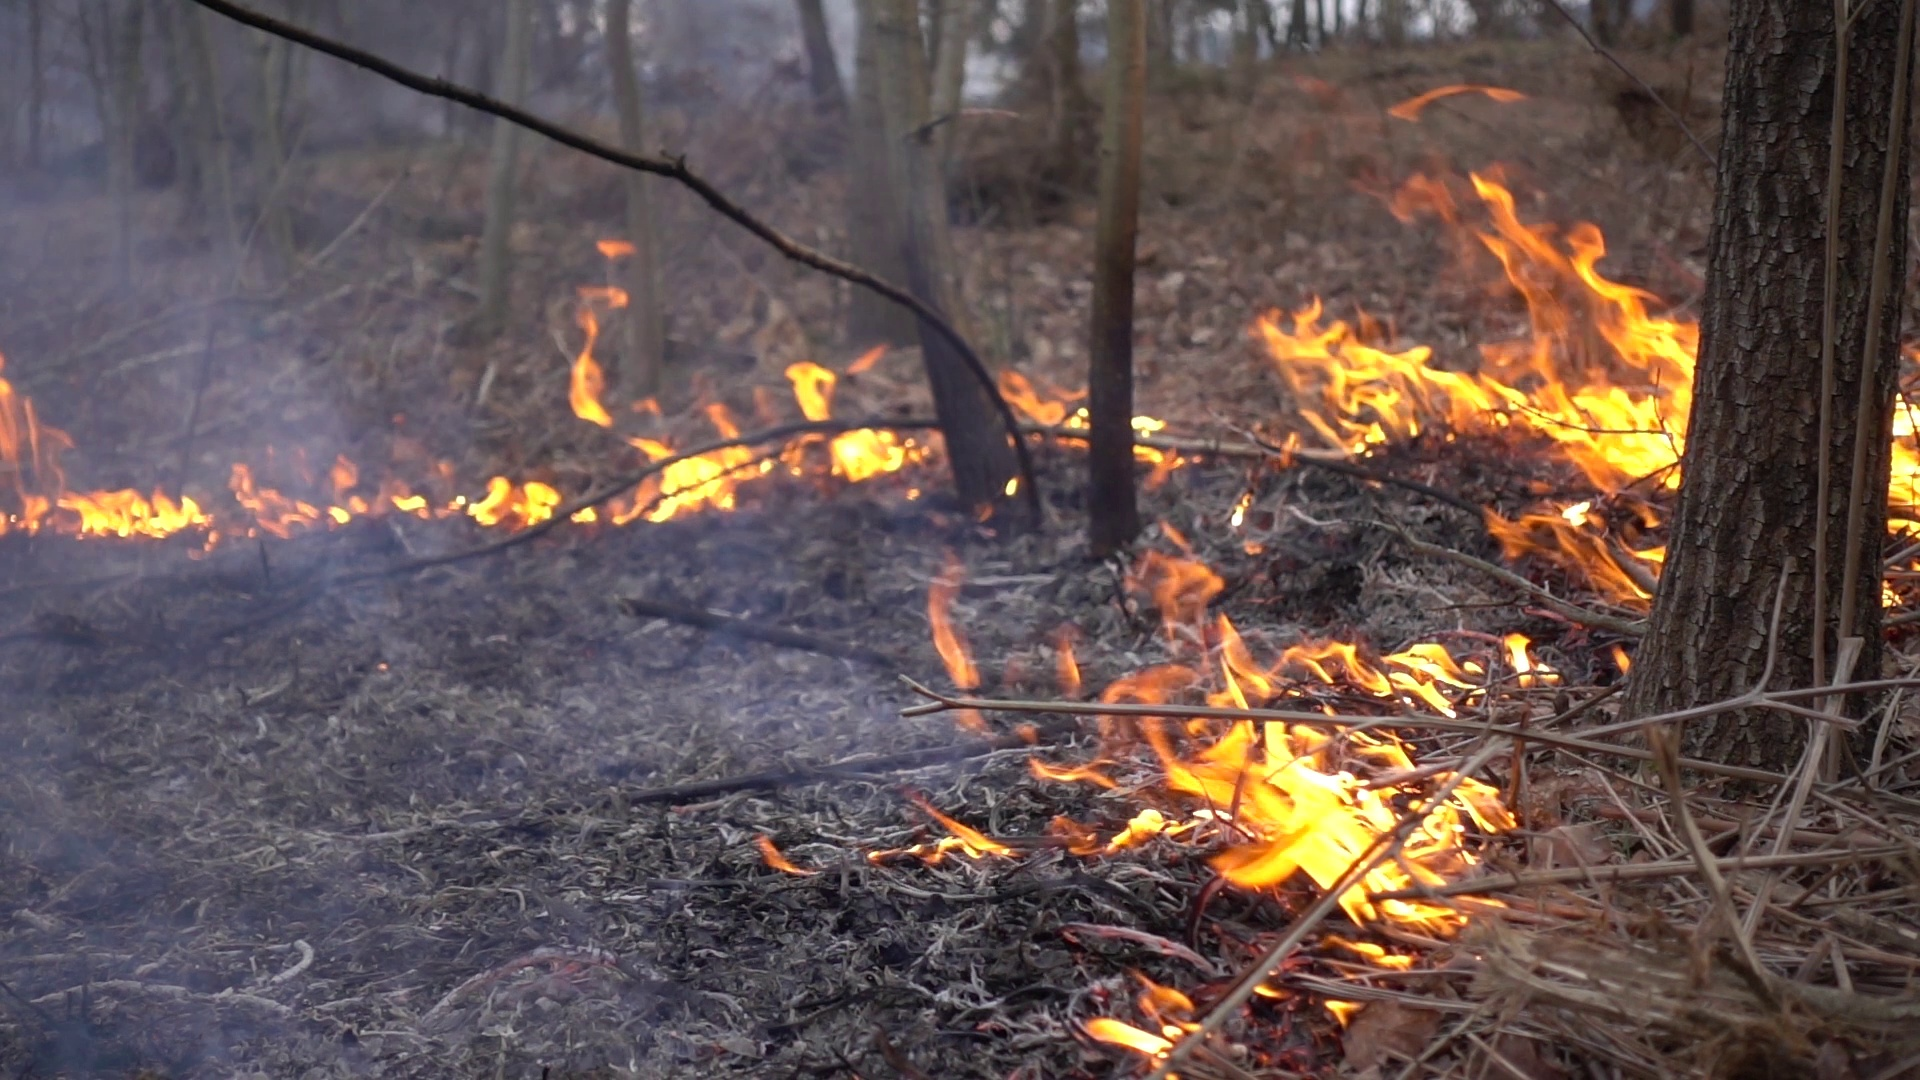fire: (1288, 171, 1700, 574), (1029, 633, 1532, 949), (67, 489, 196, 534), (653, 454, 736, 506), (1888, 400, 1920, 538), (473, 476, 553, 526), (831, 425, 899, 479), (249, 484, 314, 531), (789, 363, 837, 418), (934, 608, 971, 679), (568, 356, 604, 421), (1097, 1021, 1164, 1054)
